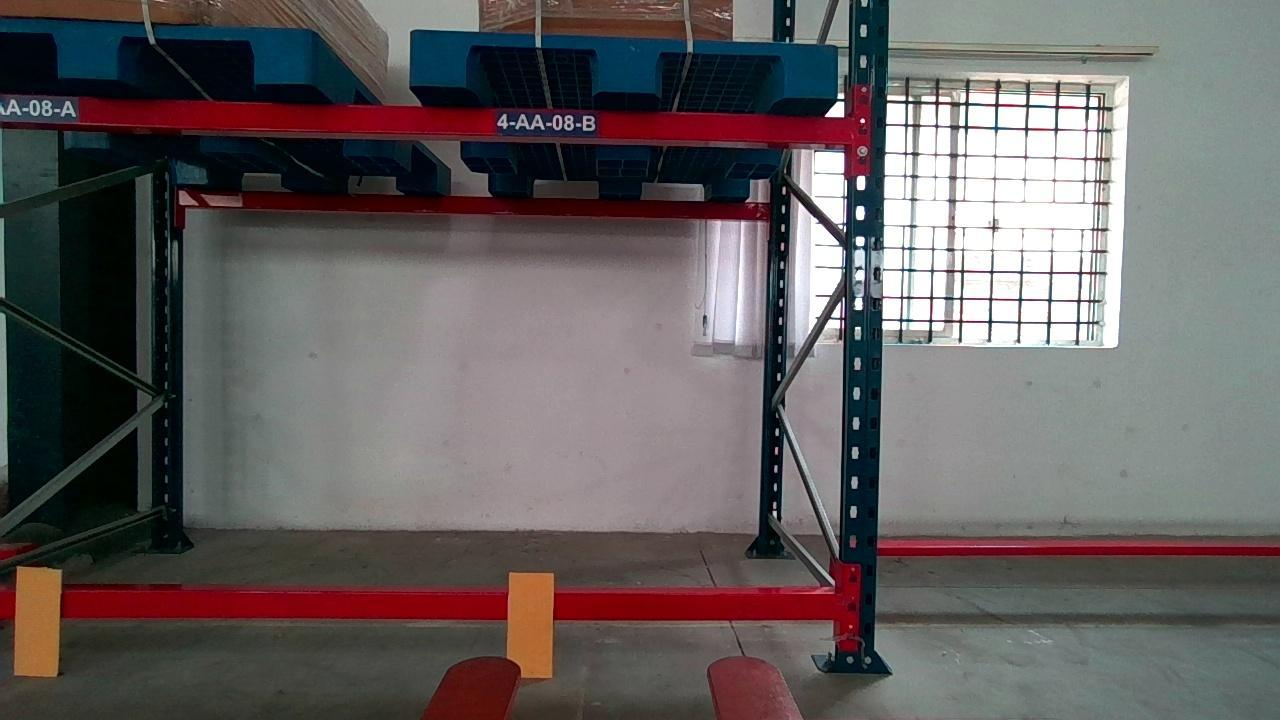h_rack: (4, 93, 851, 146), (59, 591, 837, 619)
orange_strip: (11, 565, 64, 675), (508, 567, 553, 683)
small_pallet: (413, 31, 840, 98), (4, 17, 313, 87)
